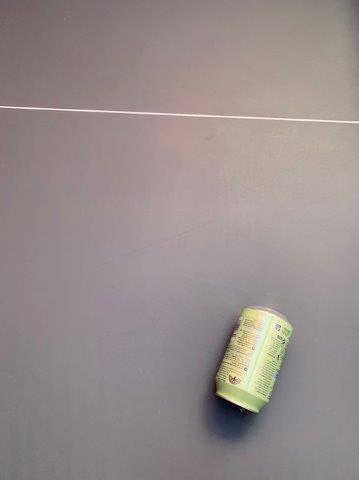kaleng: (214, 304, 294, 416)
